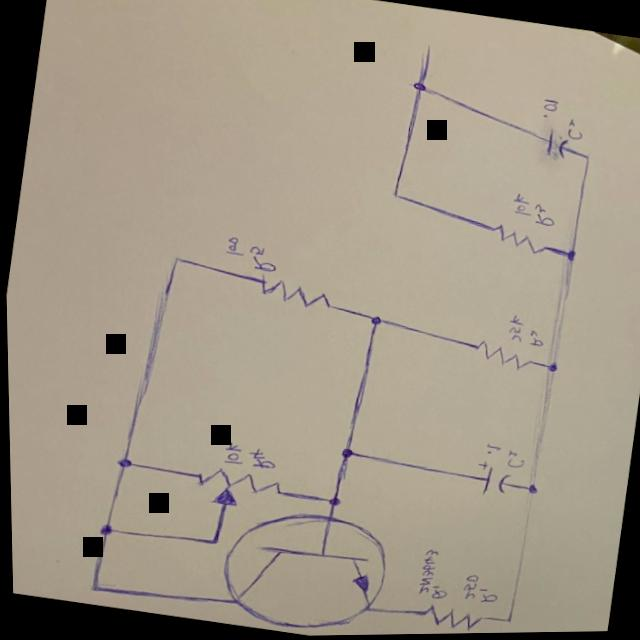capacitor: (471, 461, 513, 501), (546, 136, 571, 166)
junction: (87, 514, 123, 544), (104, 449, 138, 476), (403, 74, 437, 99), (331, 441, 361, 468), (361, 310, 393, 335), (163, 248, 194, 273), (557, 245, 584, 269), (383, 185, 411, 208), (80, 577, 110, 598), (518, 481, 544, 503), (320, 491, 345, 512), (540, 359, 566, 379), (200, 532, 224, 553), (579, 152, 602, 169), (497, 615, 518, 630)
resistor: (187, 464, 285, 519), (254, 274, 334, 315), (468, 341, 536, 375), (416, 603, 485, 635), (488, 223, 550, 258)
terminal: (410, 34, 443, 68)
text: (244, 245, 280, 276), (415, 547, 437, 597), (506, 192, 535, 221), (246, 448, 278, 472), (218, 440, 246, 467), (531, 204, 559, 230), (504, 315, 527, 344), (457, 573, 479, 603), (222, 233, 247, 258), (537, 97, 561, 122), (524, 329, 549, 352), (566, 119, 589, 143), (502, 450, 527, 472), (476, 589, 498, 609), (428, 585, 448, 605), (479, 443, 503, 458)
transistor: (216, 505, 392, 638)
